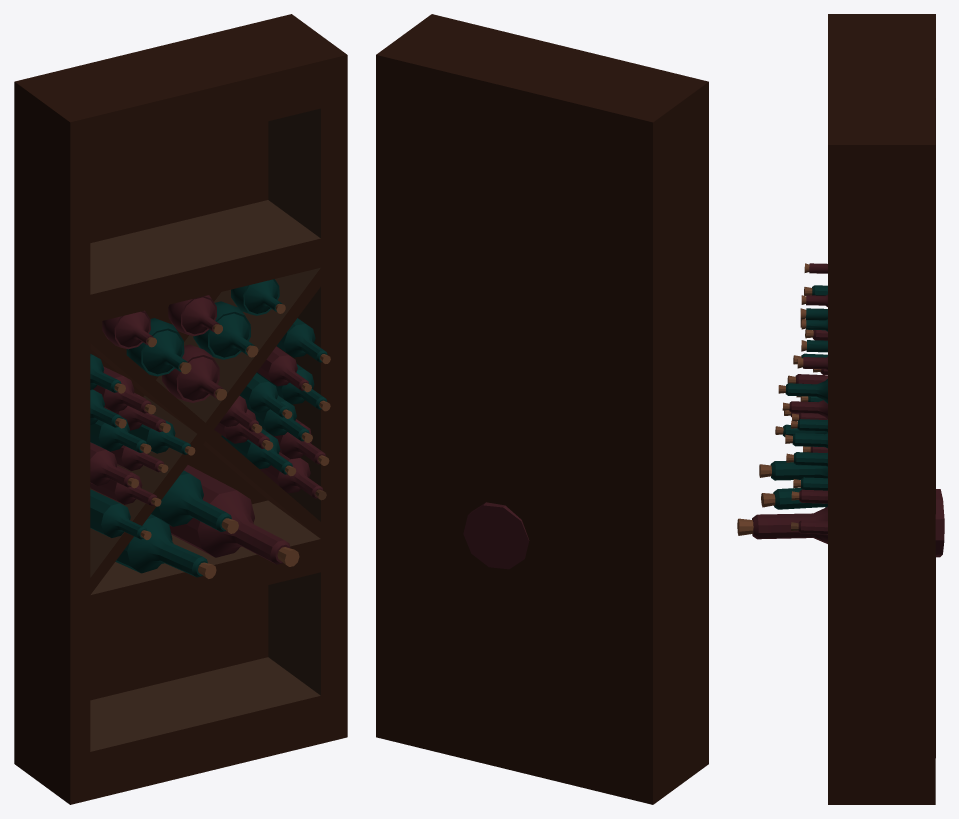
File: Cantinetta Vini .fbx
3 views of the same model, side by side, from view 1: azimuth 30°, elevation 25°; view 2: azimuth 150°, elevation 25°; view 3: azimuth 270°, elevation 25° (orthographic). The views are drawn at different scales.
Visible parts, largest first — view 1: Library 1.001; view 2: Library 1.001; view 3: Library 1.001.
Boxes of the visible parts, bbox=[...] form: Library 1.001: bbox=[14, 14, 347, 804]; Library 1.001: bbox=[376, 14, 708, 804]; Library 1.001: bbox=[737, 14, 944, 804].
Bounding box in the file's own units: 200 × 471 × 134.
